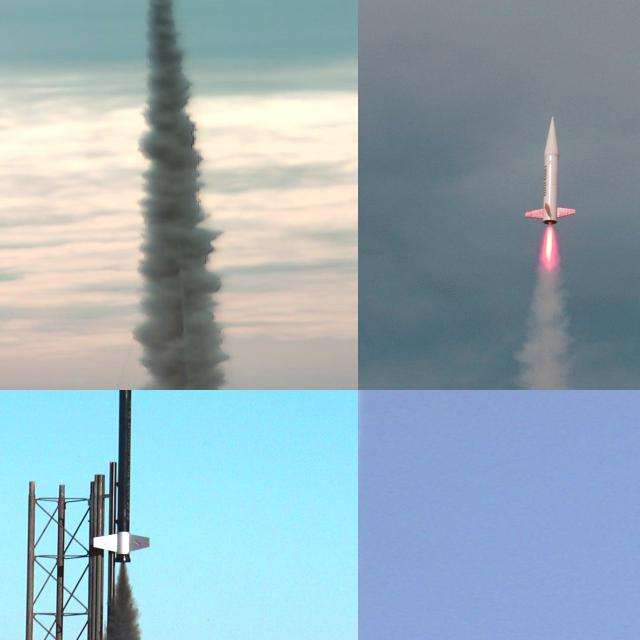Rocket: (90, 390, 151, 564), (525, 116, 577, 226)
